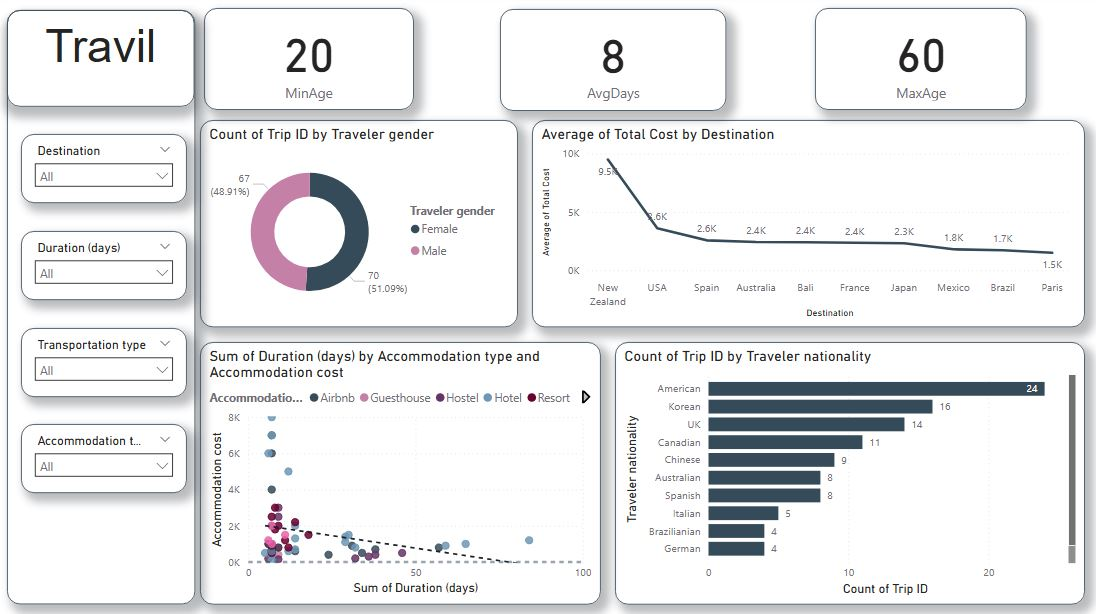

The page's visual inventory and layout, read from the dashboard file:
{"tool":"powerbi","page":{"name":"Page 2","canvas":[1280,720],"ordinal":1},"visuals":[{"type":"barChart","fields":{"Category":["Travel details dataset.Traveler nationality"],"Y":["CountNonNull(Travel details dataset.Trip ID)"]},"box":[720,400,544,304],"z":0},{"type":"shape","box":[16.1,16,218,688],"z":1000},{"type":"scatterChart","fields":{"X":["Sum(Travel details dataset.Duration (days))"],"Y":["Travel details dataset.Accommodation cost"],"Series":["Travel details dataset.Accommodation type"]},"box":[240,400,464,304],"z":2000},{"type":"slicer","fields":{"Values":["Travel details dataset.Destination"]},"box":[32.1,160,192,80],"z":3000},{"type":"donutChart","fields":{"Category":["Travel details dataset.Traveler gender"],"Y":["CountNonNull(Travel details dataset.Trip ID)"]},"box":[240,144,368,240],"z":4000},{"type":"slicer","fields":{"Values":["Travel details dataset.Accommodation type"]},"box":[32.1,496,192,80],"z":5000},{"type":"lineChart","fields":{"Category":["Travel details dataset.Destination"],"Y":["Avg(Travel details dataset.Total Cost)"]},"box":[624,144,640,240],"z":6000},{"type":"slicer","fields":{"Values":["Travel details dataset.Transportation type"]},"box":[32.1,384,192,80],"z":7000},{"type":"card","fields":{"Values":["Travel details dataset.AvgDays"]},"box":[587.3,14.6,262.2,118],"z":8000},{"type":"slicer","fields":{"Values":["Travel details dataset.Duration (days)"]},"box":[32.1,272,192,80],"z":9000},{"type":"card","fields":{"Values":["Travel details dataset.MinAge"]},"box":[244,14.1,242.9,118.2],"z":10000},{"type":"card","fields":{"Values":["Travel details dataset.MaxAge"]},"box":[951,14.1,245.5,118.2],"z":11000},{"type":"textbox","box":[16,16,217,112],"z":11001}]}

Visuals, with their boxes in screenshot pixels (x1, y1, x2, y2), scaled from the page's 1280x720 canvas onto the 1096x614 screenshot:
barChart - Travel details dataset.Traveler nationality x CountNonNull(Travel details dataset.Trip ID): [616,341,1082,600]
shape: [14,14,200,600]
scatterChart - Sum(Travel details dataset.Duration (days)) x Travel details dataset.Accommodation cost: [206,341,603,600]
slicer - Travel details dataset.Destination: [27,136,192,205]
donutChart - Travel details dataset.Traveler gender x CountNonNull(Travel details dataset.Trip ID): [206,123,521,327]
slicer - Travel details dataset.Accommodation type: [27,423,192,491]
lineChart - Travel details dataset.Destination x Avg(Travel details dataset.Total Cost): [534,123,1082,327]
slicer - Travel details dataset.Transportation type: [27,327,192,396]
card - Travel details dataset.AvgDays: [503,12,727,113]
slicer - Travel details dataset.Duration (days): [27,232,192,300]
card - Travel details dataset.MinAge: [209,12,417,113]
card - Travel details dataset.MaxAge: [814,12,1025,113]
textbox: [14,14,200,109]
